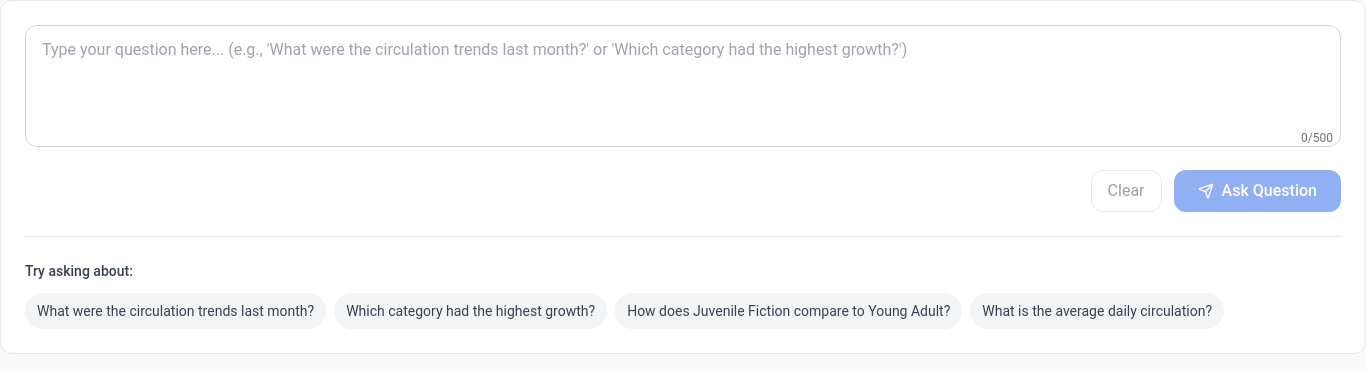
Test: QuestionsSection Component › populates the textarea when a suggested question is clicked
Step 1. Click the button "What were the circulation trends last month?" → {"x": 176, "y": 311}, box [25,293,326,329]
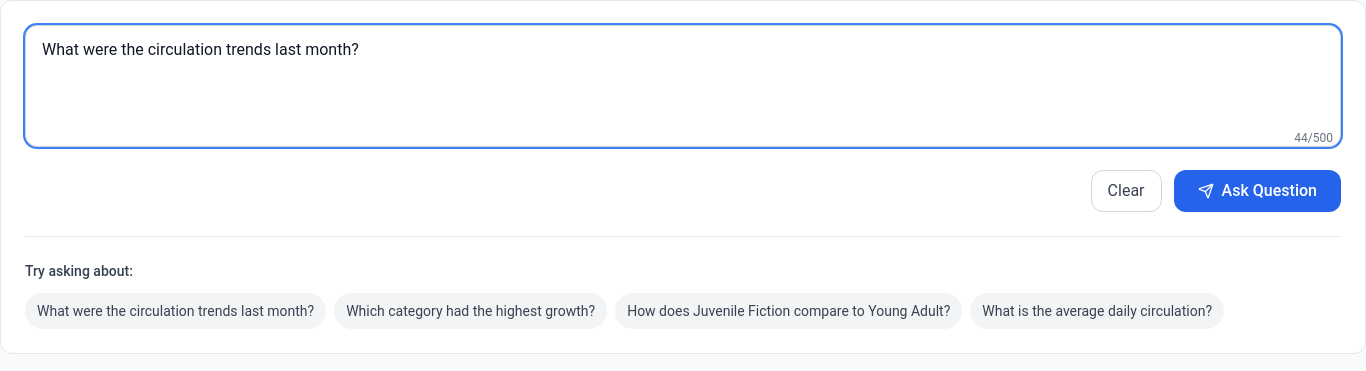
Expected: the text box holds "What were the circulation trends last month?", [25,25,1341,147]
